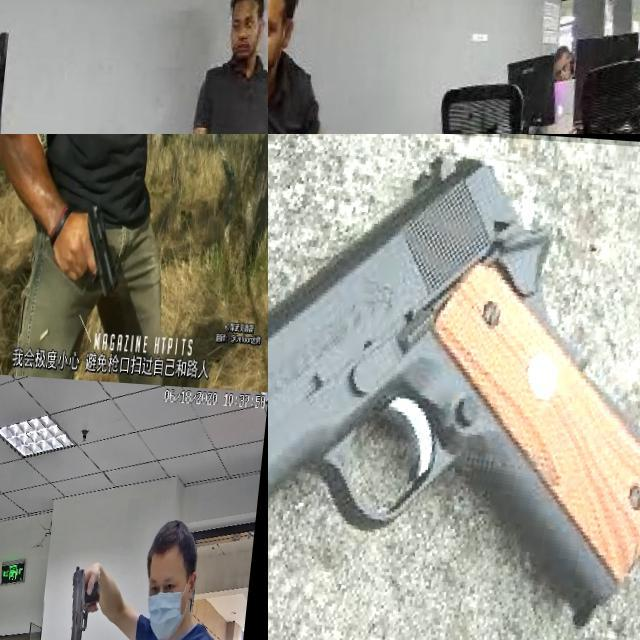gun-knife-thesis - v11 Yolov5 augmented: (268, 134, 640, 640), (58, 198, 120, 308), (0, 140, 31, 277), (72, 553, 113, 640), (0, 390, 19, 482)
